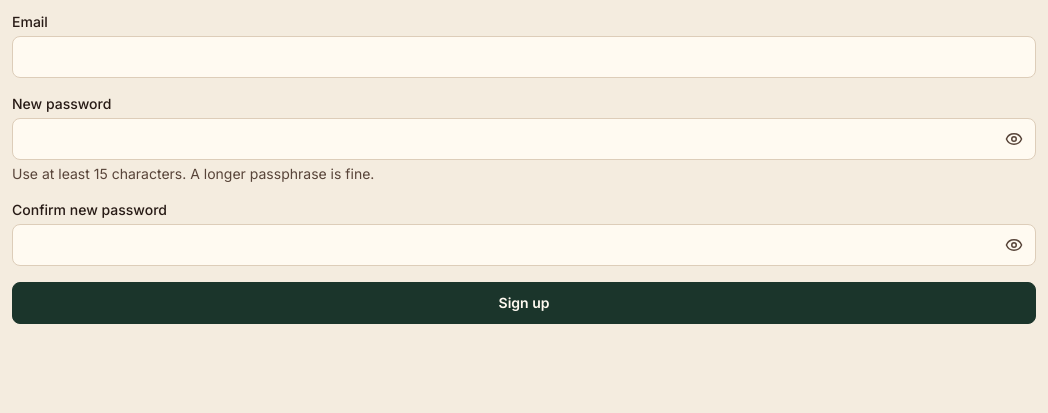
Test: renders inline signup errors and clears only affected stale errors as fields change
The image size is (1048, 413).
Submit the form named "Sign up"
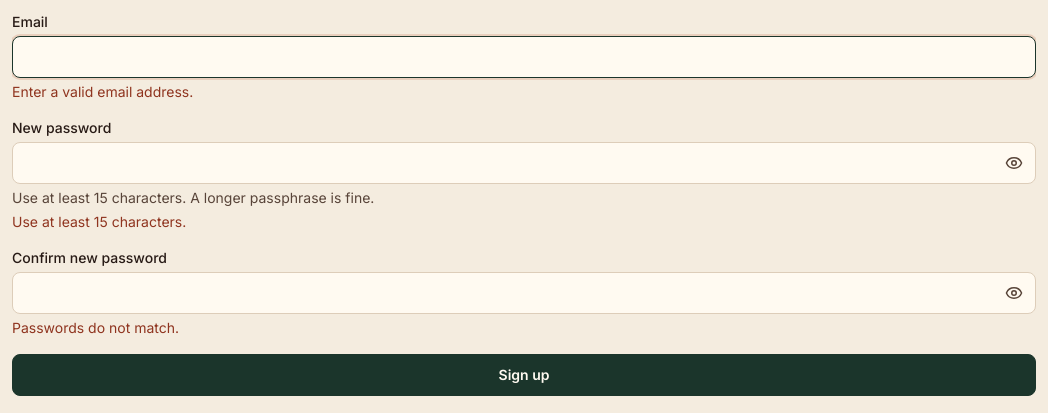
Check: the text "Enter a valid email address." is shown, box x1=12 y1=83 x2=193 y2=100
Check: the text "Use at least 15 characters." is shown, box x1=12 y1=213 x2=186 y2=230
Check: the text "Passwords do not match." is shown, box x1=12 y1=319 x2=179 y2=336
Type "member@example.com" into the field labelled "Email" at (524, 57), box x1=12 y1=36 x2=1036 y2=78
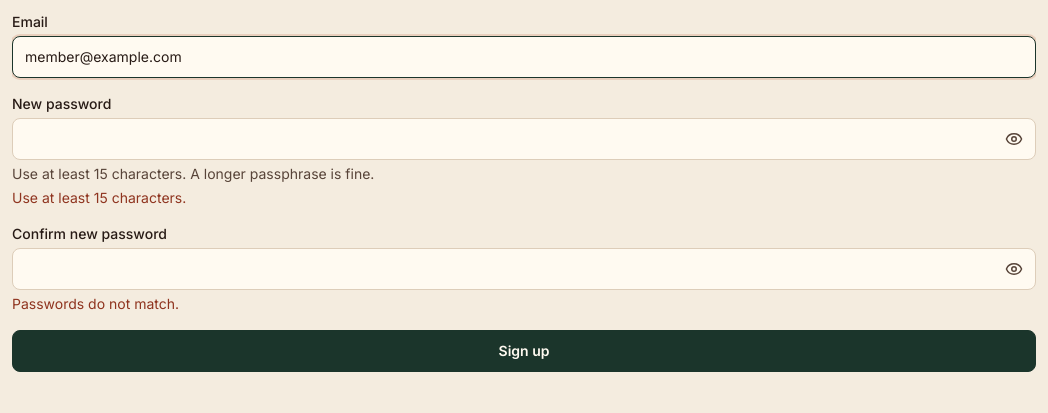
Check: the text "Use at least 15 characters." is shown, box x1=12 y1=189 x2=186 y2=206
Check: the text "Passwords do not match." is shown, box x1=12 y1=295 x2=179 y2=312
Check: the text "Enter a valid email address." is gone
Type "corrected-password" into the password field labelled "New password" at (524, 139), box x1=12 y1=118 x2=1036 y2=160
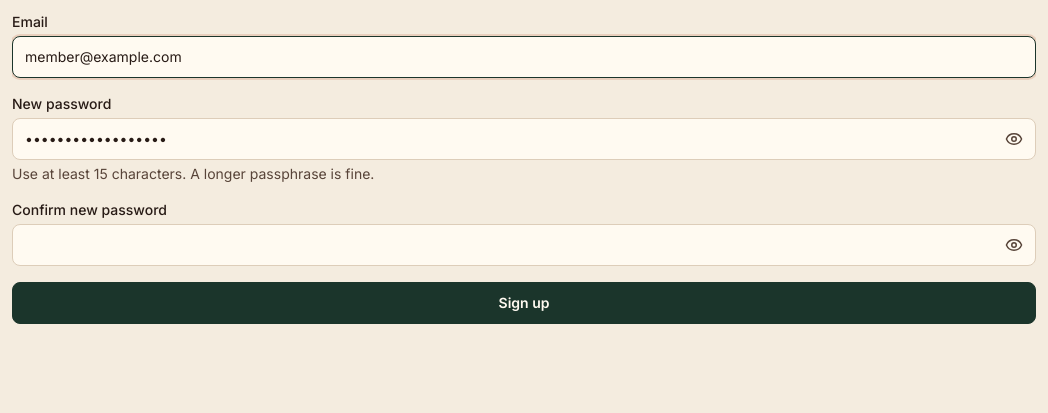
Check: the text "Passwords do not match." is gone
